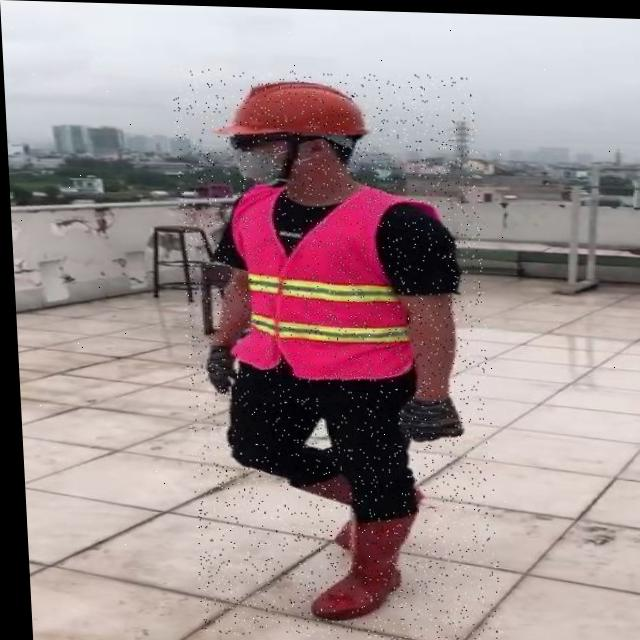Gloves: (392, 392, 461, 440), (202, 344, 233, 393)
Helmet: (210, 77, 368, 140)
Safety-Boot: (300, 504, 416, 620)
Safety-Vest: (219, 177, 448, 381)
